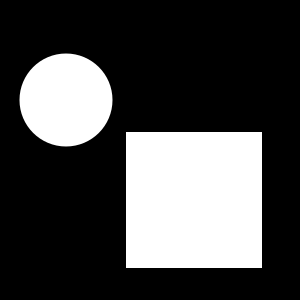circle: (126, 132, 262, 268)
rectangle: (20, 53, 112, 146)
